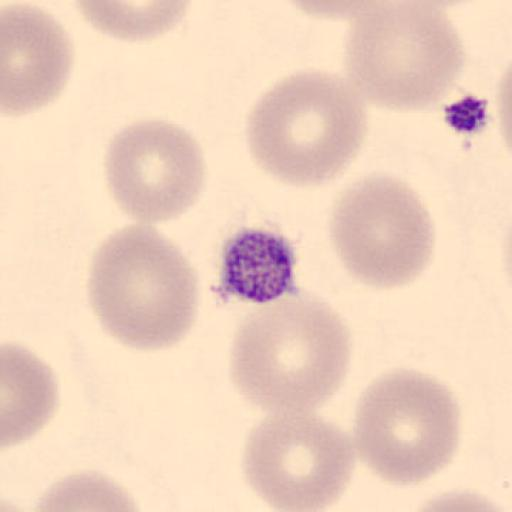Platelet: (208, 224, 303, 306), (440, 91, 494, 139)
RBC: (228, 288, 351, 419), (86, 221, 201, 354), (244, 66, 368, 189), (340, 0, 466, 114), (350, 364, 464, 488), (326, 170, 438, 291), (239, 410, 358, 512), (102, 116, 207, 227), (2, 2, 76, 118), (1, 339, 60, 451), (65, 0, 197, 44), (32, 469, 147, 512), (402, 486, 511, 512), (274, 0, 386, 21), (495, 53, 512, 161)
